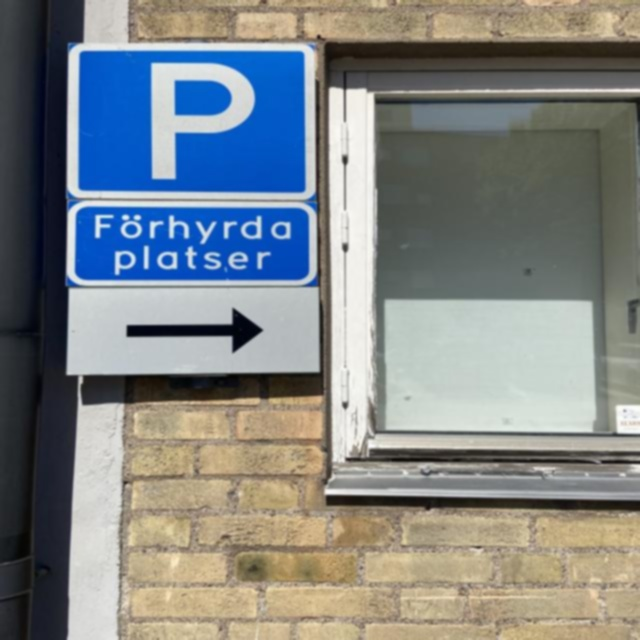P-skylt: (69, 47, 310, 200)
